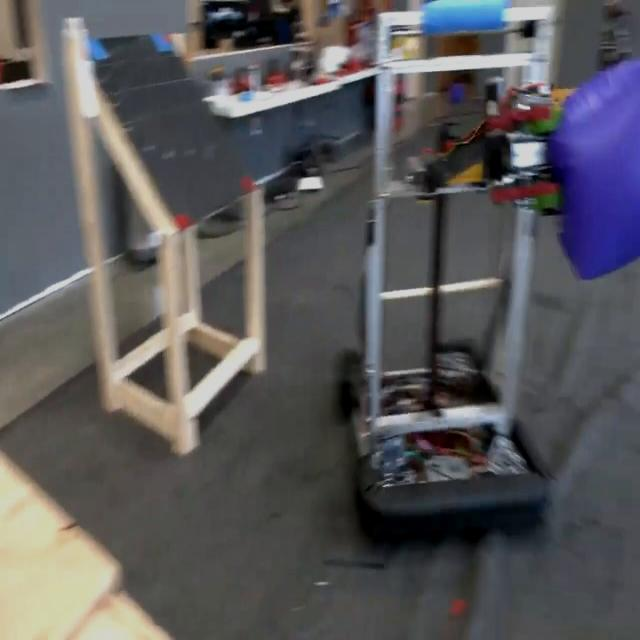frc_cube: (540, 53, 640, 284)
